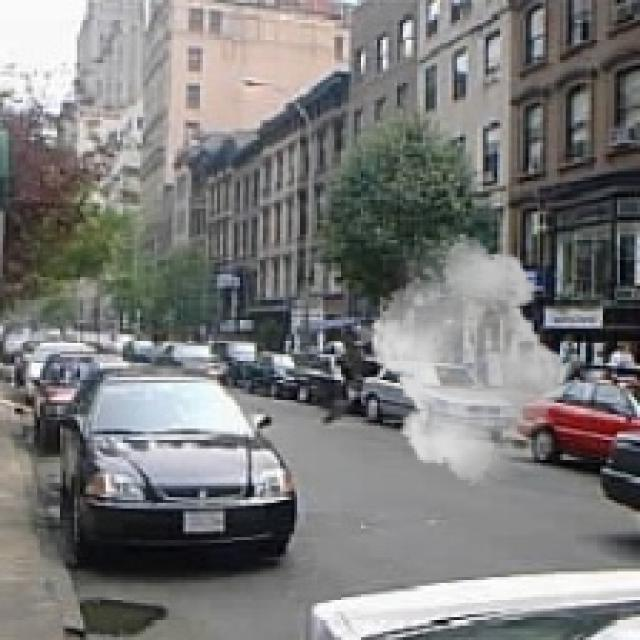smoke: (363, 231, 574, 486)
